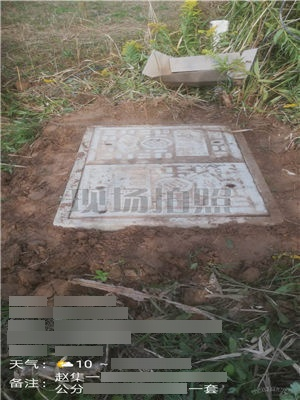well: (52, 124, 273, 229)
